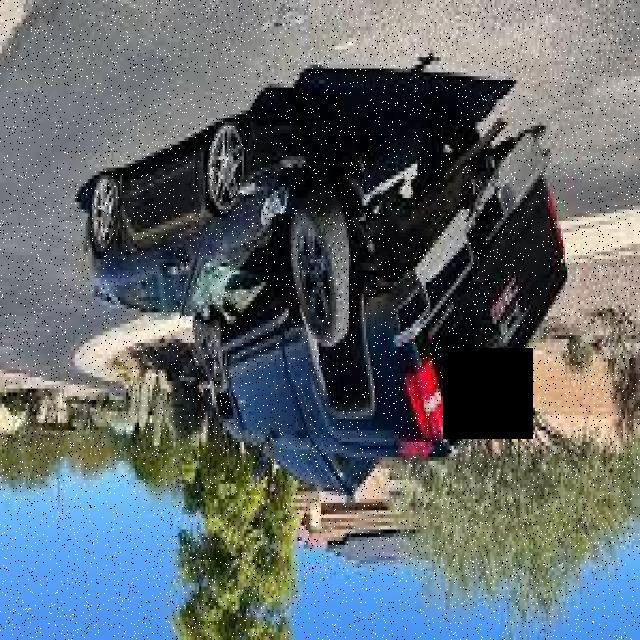severe: (84, 95, 572, 499)
